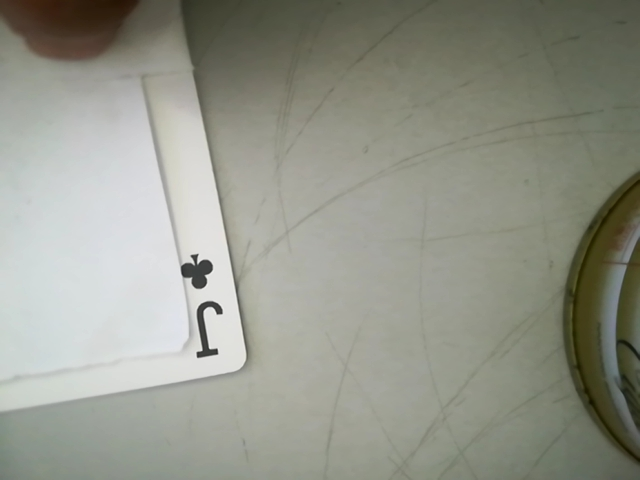mh j: (168, 240, 240, 371)
